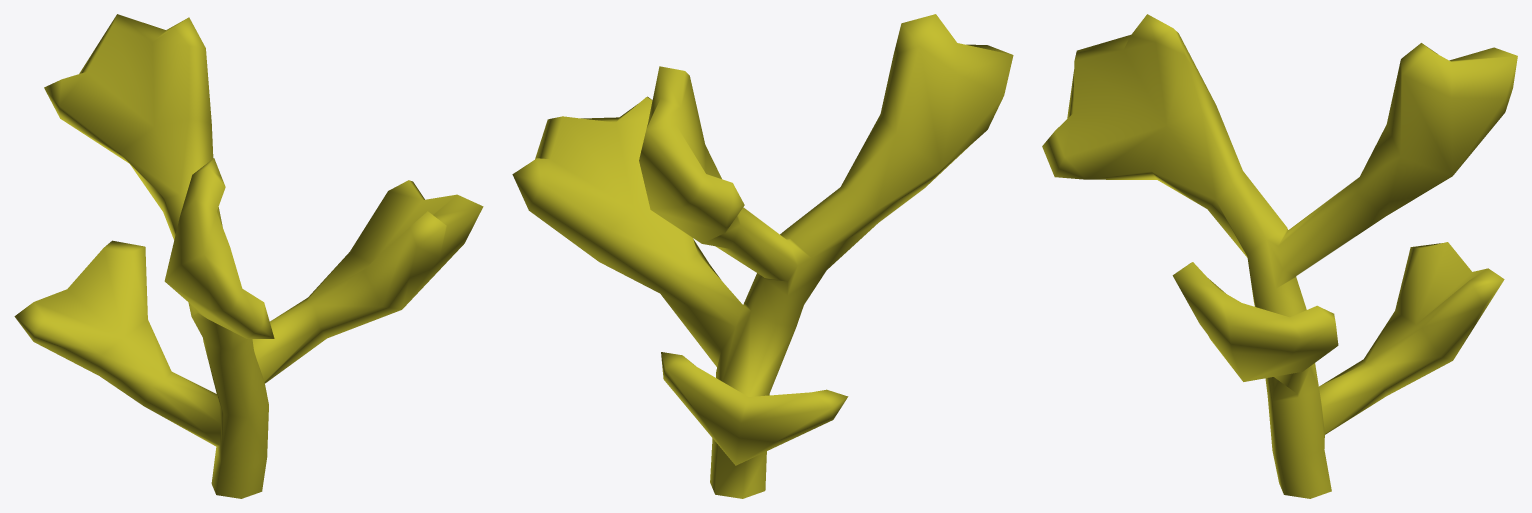
File: Elkhorn Coral.fbx
The picture shows the model from 3 angles, left to right: view 1: azimuth 30°, elevation 25°; view 2: azimuth 150°, elevation 25°; view 3: azimuth 270°, elevation 25°; orthographic projection. The views are drawn at different scales.
Parts seen in each view (by area): view 1: Object009; view 2: Object009; view 3: Object009.
Boxes of the visible parts, left/top/right/bottom form: Object009: left=14, top=14, right=483, bottom=498; Object009: left=512, top=14, right=1013, bottom=498; Object009: left=1042, top=14, right=1517, bottom=498.
Bounding box in the file's own units: 24.62 × 27.4 × 26.65.
